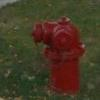Hydrant: (26, 9, 94, 98)
